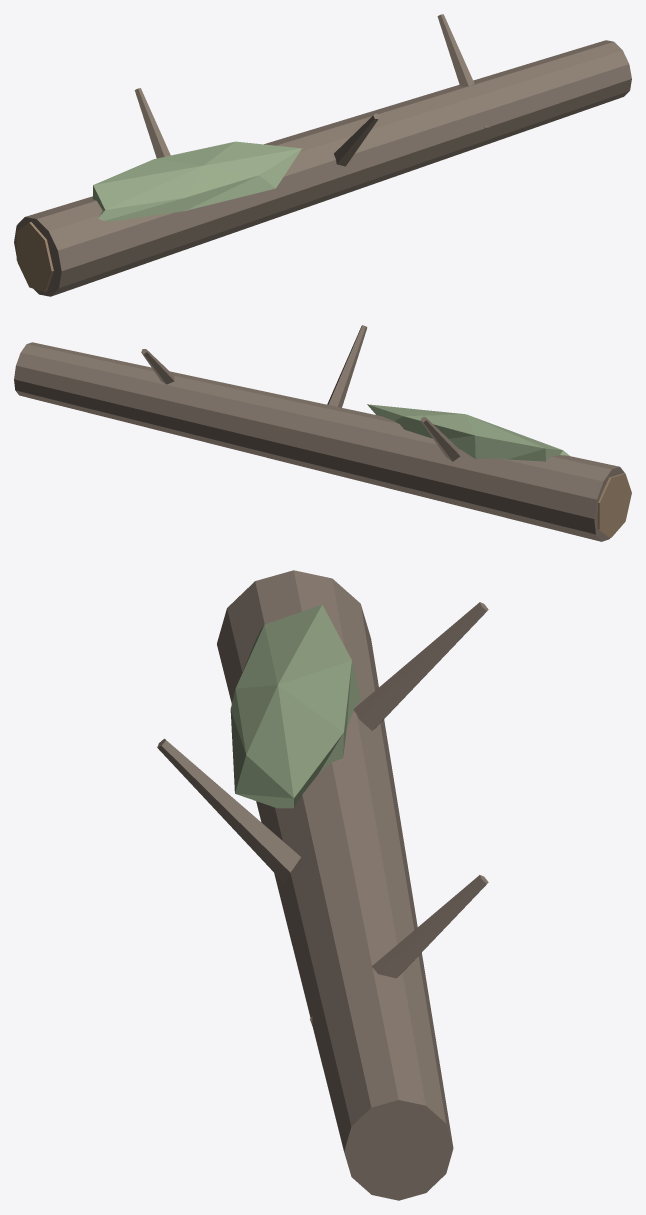
The picture shows the model from 3 angles, top to bottom: view 1: azimuth 30°, elevation 25°; view 2: azimuth 150°, elevation 25°; view 3: azimuth 270°, elevation 25°; orthographic projection. The views are drawn at different scales.
Size of the model in its own units: 8.09 by 1.68 by 2.06.
